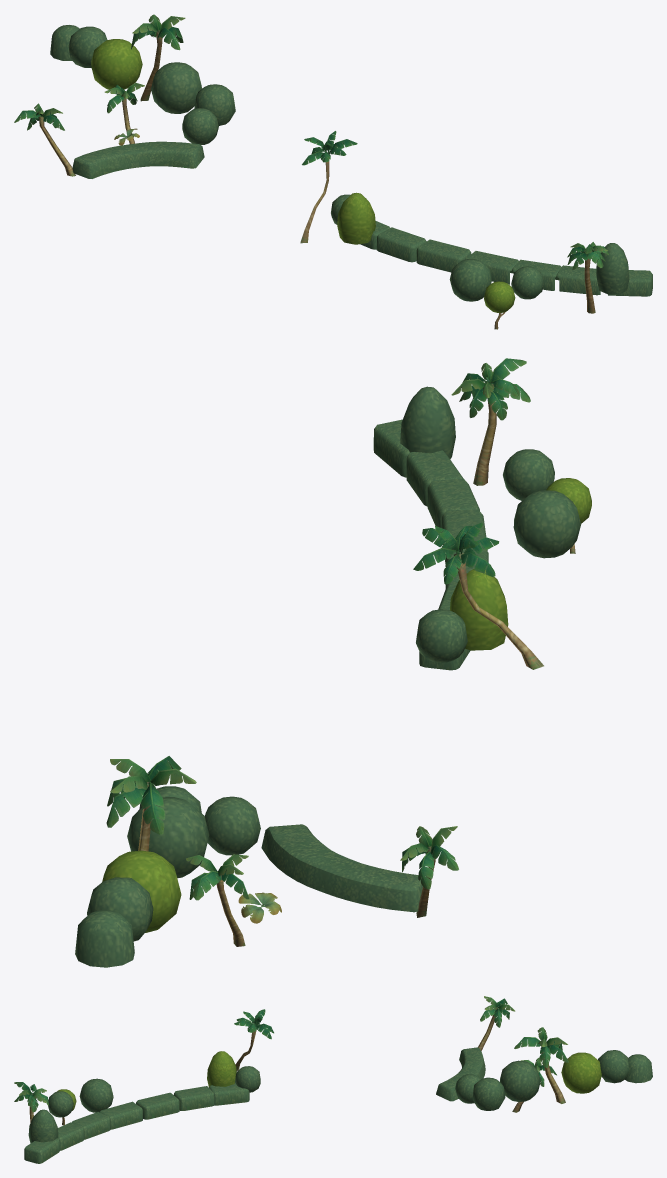
Rendered from pref_sm_beach_bk_pointmol_righttree_lv0.fbx.
3 renders of one model, top to bottom at view 1: azimuth 30°, elevation 25°; view 2: azimuth 150°, elevation 25°; view 3: azimuth 270°, elevation 25°, orthographic. The views are drawn at different scales.
Visible parts, largest first — view 1: pref_sm_beach_bk_pointmol_righttree_lv0; view 2: pref_sm_beach_bk_pointmol_righttree_lv0; view 3: pref_sm_beach_bk_pointmol_righttree_lv0.
Boxes of the visible parts, <box> form: pref_sm_beach_bk_pointmol_righttree_lv0: <box>14,14,652,329</box>; pref_sm_beach_bk_pointmol_righttree_lv0: <box>75,358,591,967</box>; pref_sm_beach_bk_pointmol_righttree_lv0: <box>14,996,652,1163</box>.
Size of the model in its own units: 31.18 by 11.78 by 62.77.
